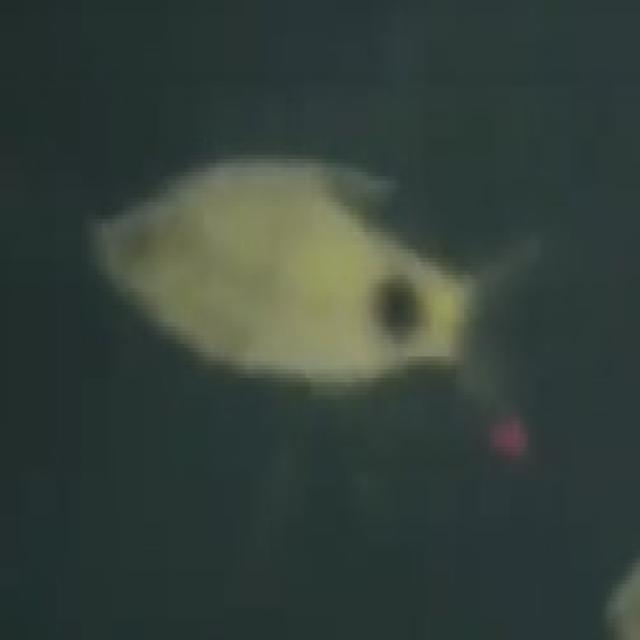Black-Spotted-Barb: (84, 96, 552, 461)
